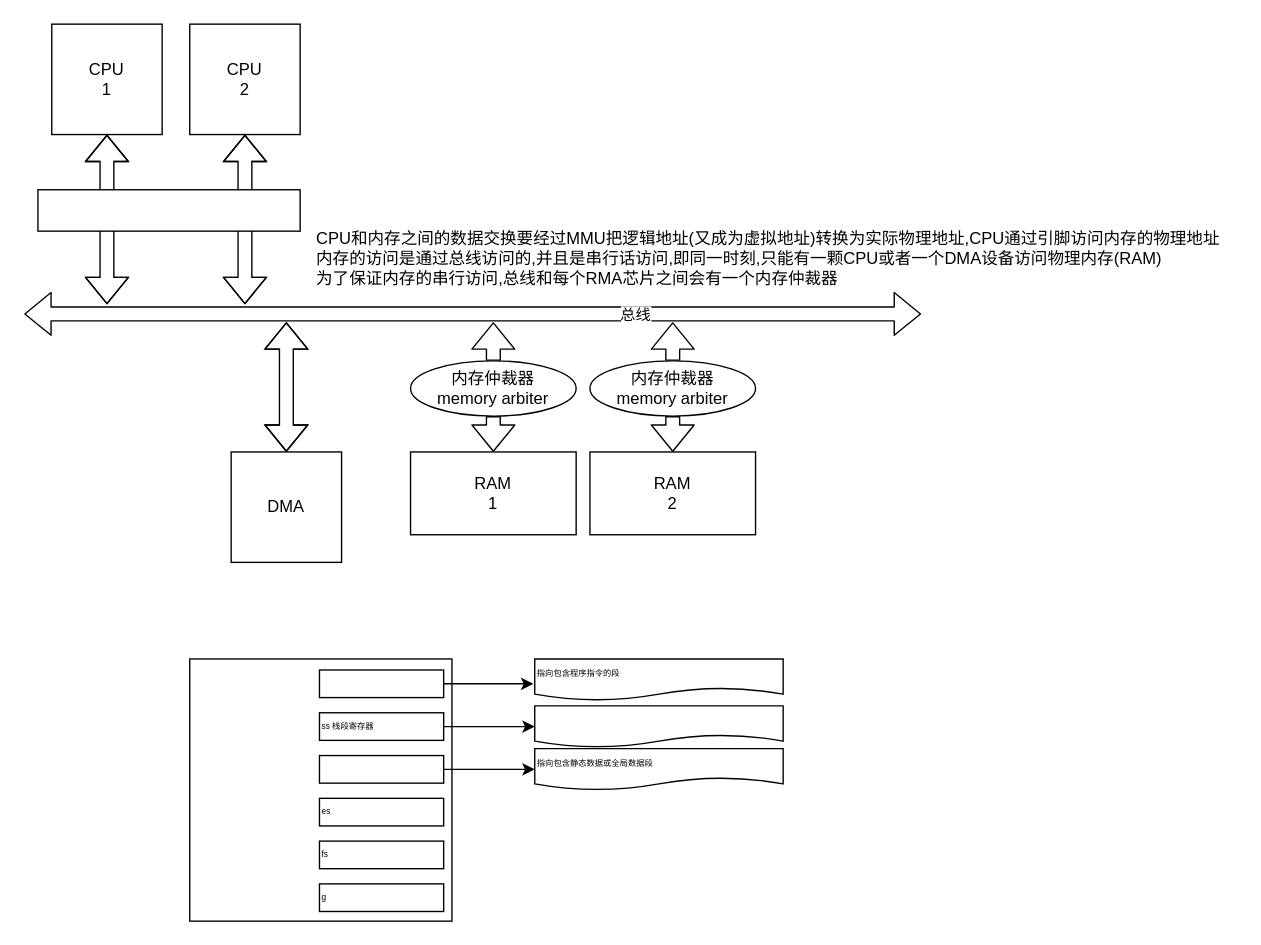
Some shapes in this 1261 by 945 pixel diagram are drawn without their labels. Here are the shapes that lost their labels. From the top down, the box of each, then its label:
(37, 188, 300, 231): MMU
(318, 669, 444, 698): cs 代码段寄存器
(533, 704, 783, 747): 指向包含当前程序栈的段
(318, 754, 444, 783): ds 数据段寄存器
(188, 658, 452, 921): CPU
